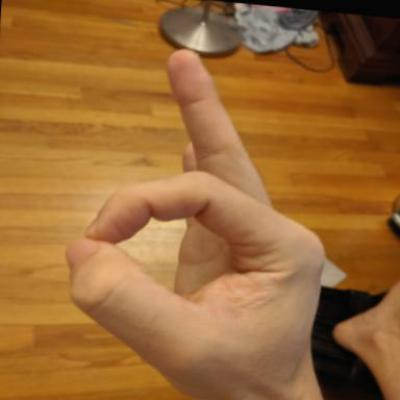hand: (45, 32, 349, 399)
